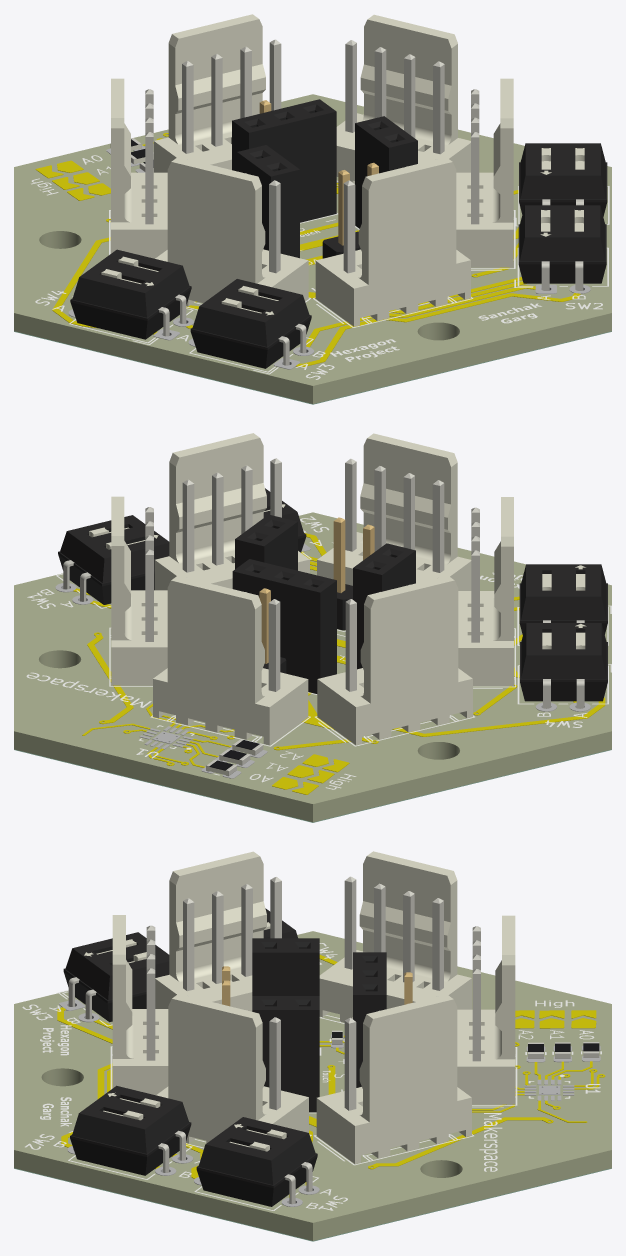
The model's file is GeneralNode.glb.
3 renders of one model, top to bottom at view 1: azimuth 30°, elevation 25°; view 2: azimuth 150°, elevation 25°; view 3: azimuth 270°, elevation 25°, orthographic.
Parts seen in each view (by area): view 1: =>[0:1:1:3] (×6), =>[0:1:1:24], =>[0:1:1:7] (×4), =>[0:1:1:15], =>[0:1:1:5] (×2), =>[0:1:1:18], =>[0:1:1:21], =>[0:1:1:19], =>[0:1:1:13], =>[0:1:1:23]; view 2: =>[0:1:1:3] (×6), =>[0:1:1:24], =>[0:1:1:7] (×4), =>[0:1:1:15], =>[0:1:1:5] (×2), =>[0:1:1:18], =>[0:1:1:21], =>[0:1:1:13], =>[0:1:1:19], =>[0:1:1:23], =>[0:1:1:11]; view 3: =>[0:1:1:3] (×6), =>[0:1:1:24], =>[0:1:1:7] (×3), =>[0:1:1:5] (×2), =>[0:1:1:18], =>[0:1:1:21], =>[0:1:1:15], =>[0:1:1:19], =>[0:1:1:23].
Boxes of the visible parts, x1,y1,x2,y2 form: =>[0:1:1:3] (×6): (111,14,513,326); =>[0:1:1:24]: (14,94,611,403); =>[0:1:1:7] (×4): (70,143,607,368); =>[0:1:1:15]: (232,99,336,222); =>[0:1:1:5] (×2): (237,116,417,258); =>[0:1:1:18]: (35,133,580,366); =>[0:1:1:21]: (31,151,609,379); =>[0:1:1:19]: (68,145,590,369); =>[0:1:1:13]: (322,162,378,258); =>[0:1:1:23]: (14,331,611,404); =>[0:1:1:3] (×6): (111,433,513,745); =>[0:1:1:24]: (14,512,611,822); =>[0:1:1:7] (×4): (58,488,607,708); =>[0:1:1:15]: (232,559,336,693); =>[0:1:1:5] (×2): (235,514,415,669); =>[0:1:1:18]: (73,533,605,794); =>[0:1:1:21]: (26,516,611,789); =>[0:1:1:13]: (333,517,374,630); =>[0:1:1:19]: (55,543,590,778); =>[0:1:1:23]: (14,749,611,822); =>[0:1:1:11]: (259,588,286,673); =>[0:1:1:3] (×6): (112,851,515,1163); =>[0:1:1:24]: (14,931,611,1240); =>[0:1:1:7] (×3): (63,932,317,1206); =>[0:1:1:5] (×2): (252,938,319,1112); =>[0:1:1:18]: (57,955,605,1197); =>[0:1:1:21]: (22,943,601,1210); =>[0:1:1:15]: (353,952,386,1087); =>[0:1:1:19]: (59,999,600,1206); =>[0:1:1:23]: (14,1168,611,1241).
Bounding box in the file's own units: 0.052 × 0.0153 × 0.045.
